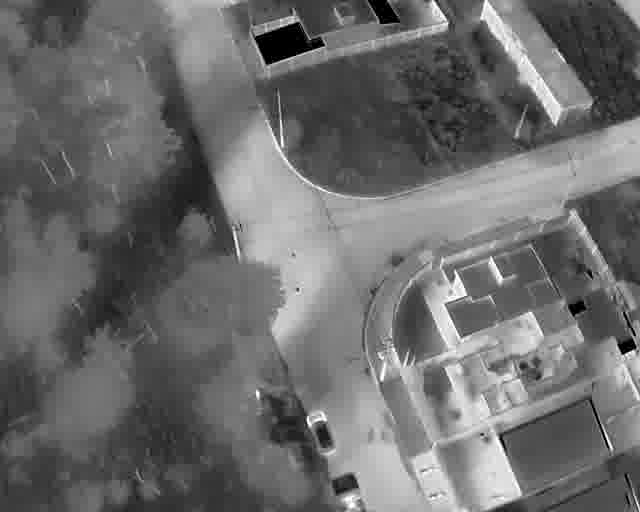car: (306, 409, 337, 456)
truck: (329, 472, 367, 512)
